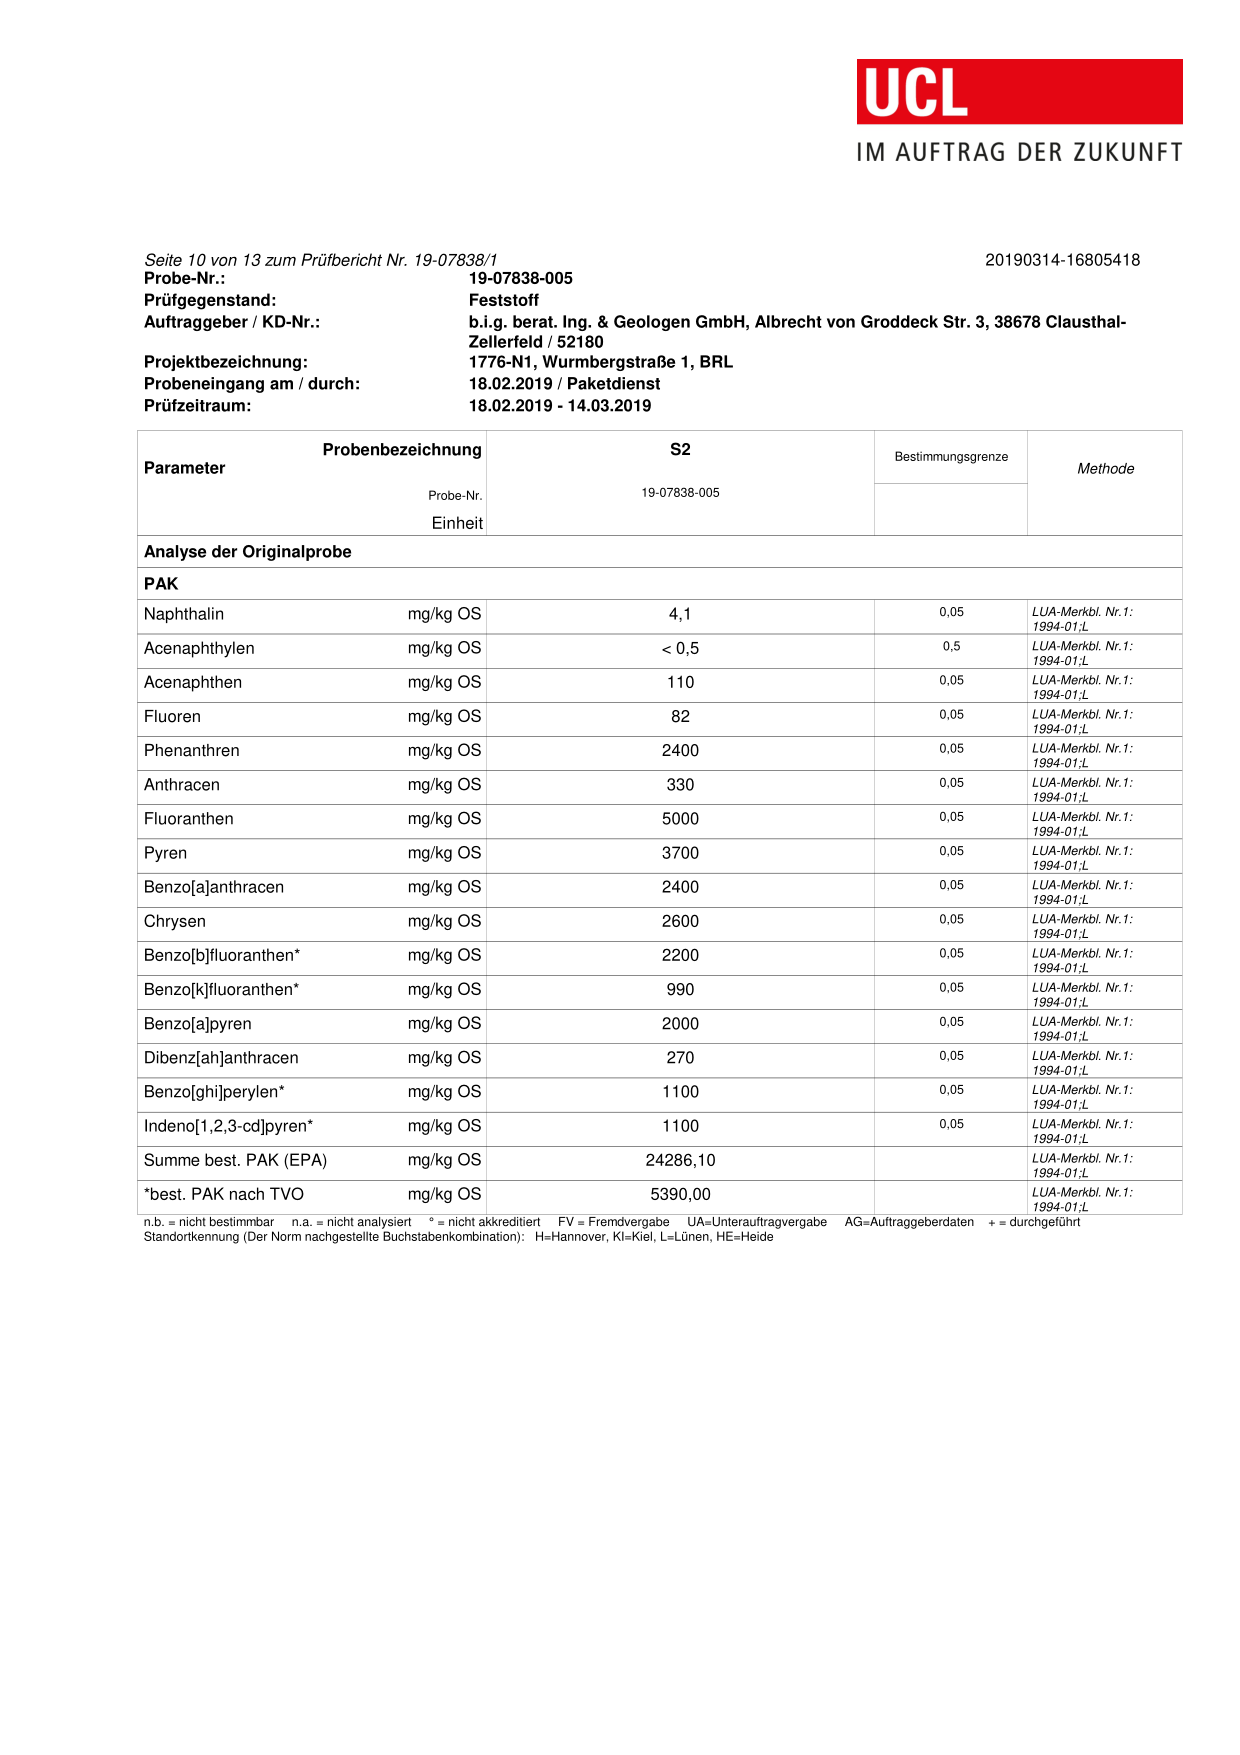table: (125, 598, 1196, 1220)
